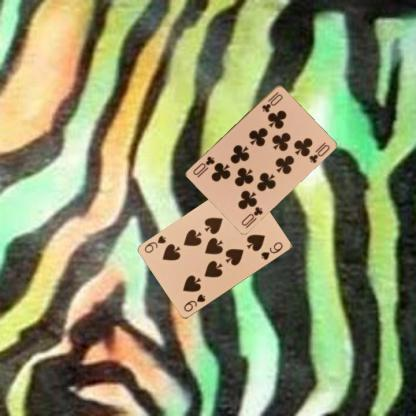10c: (259, 89, 284, 114), (239, 204, 264, 227)
9s: (181, 292, 207, 314)
